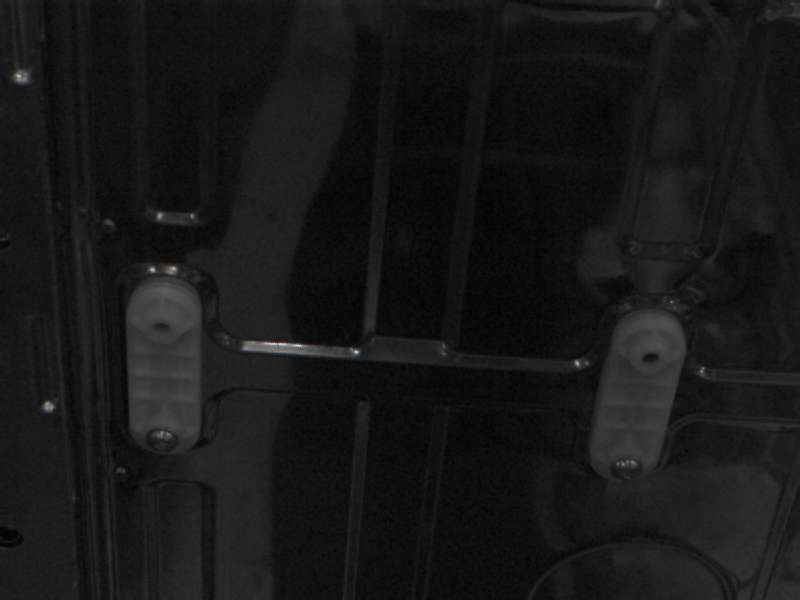missing_screw: (633, 342, 665, 375)
screw: (143, 421, 182, 459), (610, 454, 647, 487)
